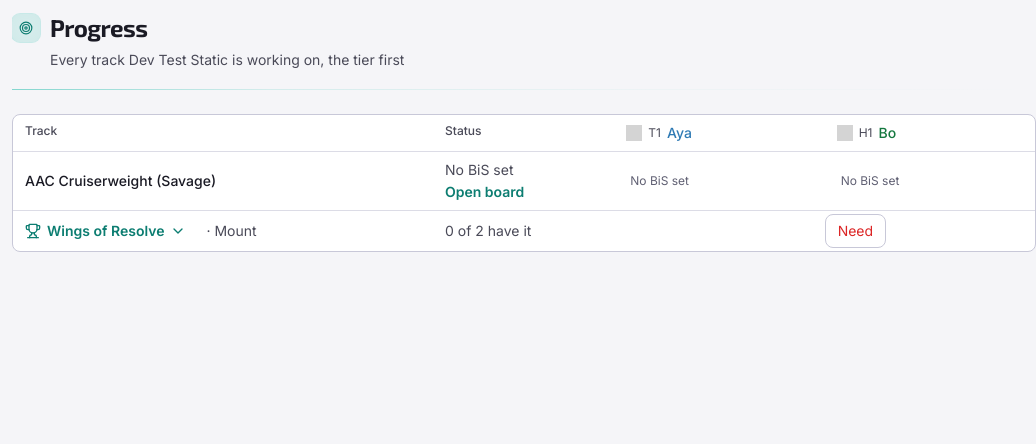
Test: ProgressPage open row: I got it under View As (S2a-3a·G3; R-S3-7, R-S3-16) › still shows when the only drop is the admin's own
Click the button "Wings of Resolve". click: (106, 231)
box: [13,215,198,247]
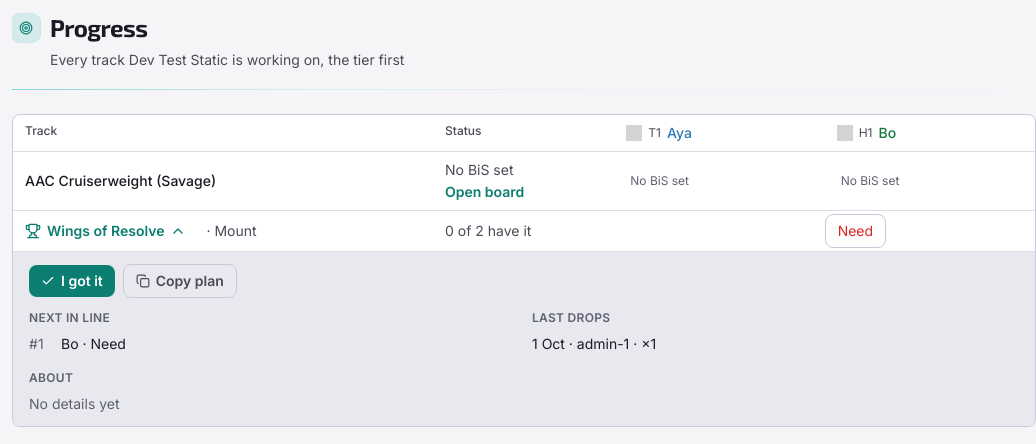
Check: the text "1 Oct · admin-1 · ×1" is shown, box [532,335,656,352]
Check: the button "I got it" is shown, box [29,265,115,297]
